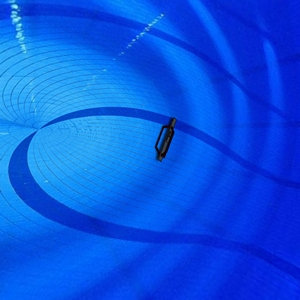submarine: (150, 113, 187, 172)
